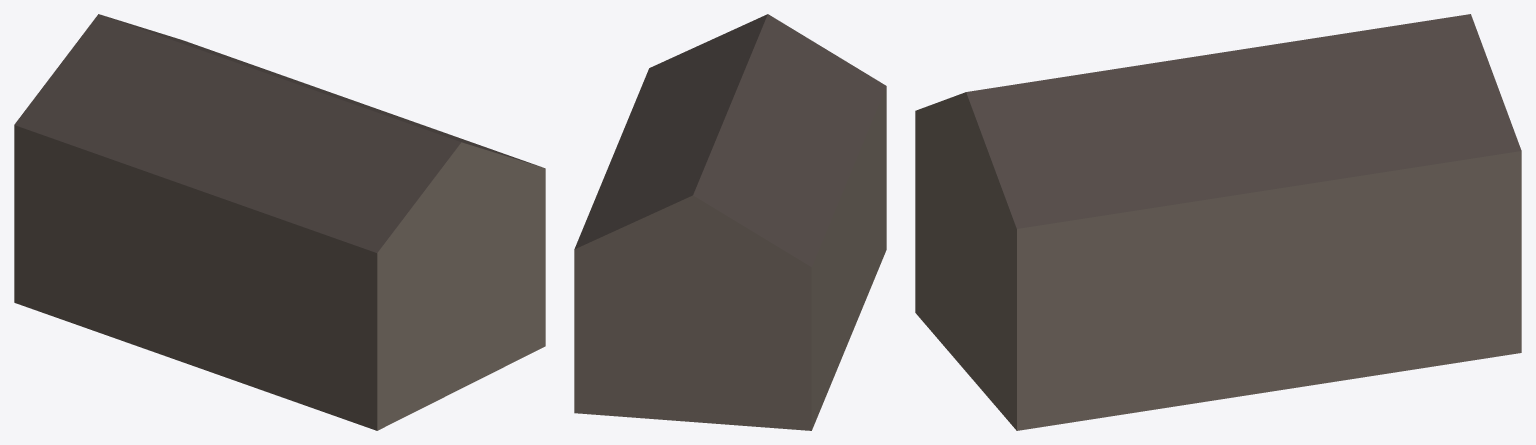
3 renders of one model, left to right at view 1: azimuth 30°, elevation 25°; view 2: azimuth 150°, elevation 25°; view 3: azimuth 270°, elevation 25°, orthographic. The views are drawn at different scales.
Parts seen in each view (by area): view 1: HP-w369317554; view 2: HP-w369317554; view 3: HP-w369317554.
Part boxes in pixels (x1=…): HP-w369317554: x1=14, y1=14, x2=545, y2=430; HP-w369317554: x1=574, y1=14, x2=886, y2=430; HP-w369317554: x1=915, y1=14, x2=1521, y2=430.
Bounding box in the file's own units: 18.76 × 12.47 × 24.49.
